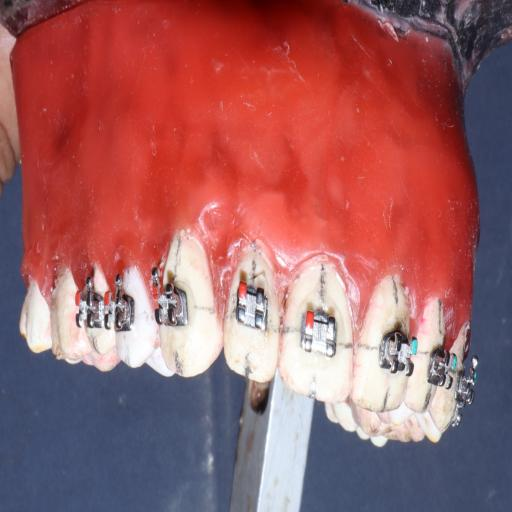incorrect_brace: (223, 235, 279, 390), (296, 302, 340, 366), (234, 281, 270, 336)
